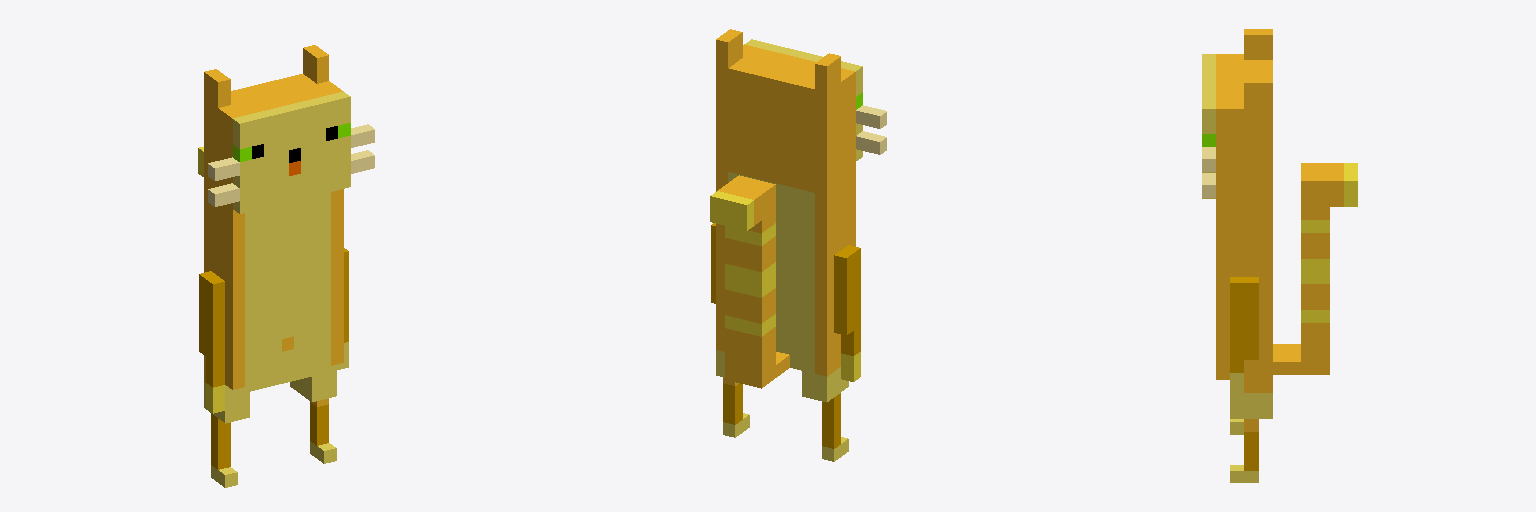
3 renders of one model, left to right at view 1: azimuth 30°, elevation 25°; view 2: azimuth 150°, elevation 25°; view 3: azimuth 270°, elevation 25°, orthographic.
Size of the model in its own units: 13 by 31 by 11.
Materials: 1 (1 with a texture image).